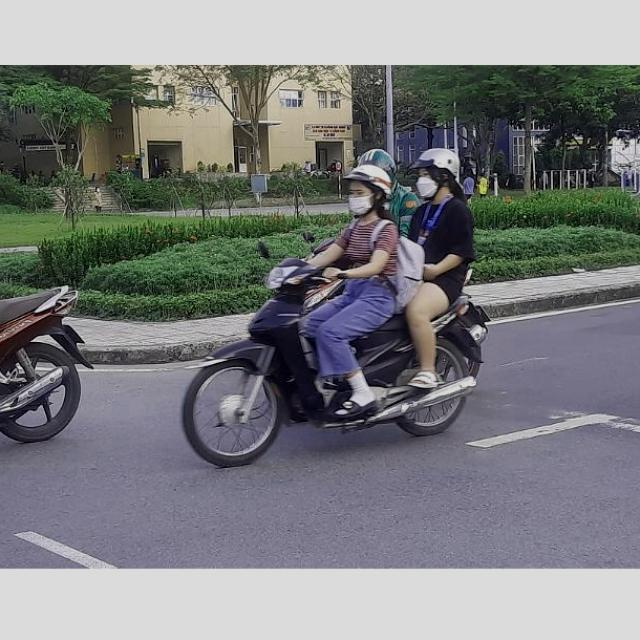Helmet: (410, 146, 465, 204), (342, 164, 392, 218)
